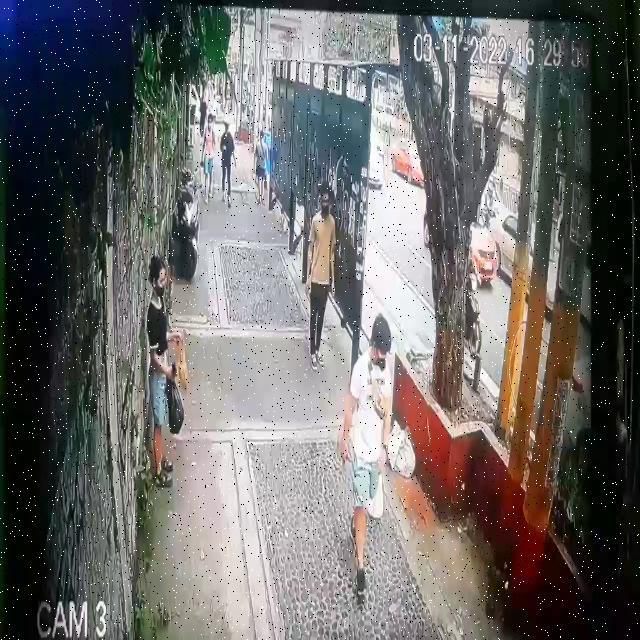garbage_dumping: (164, 360, 184, 439), (170, 322, 192, 387)
